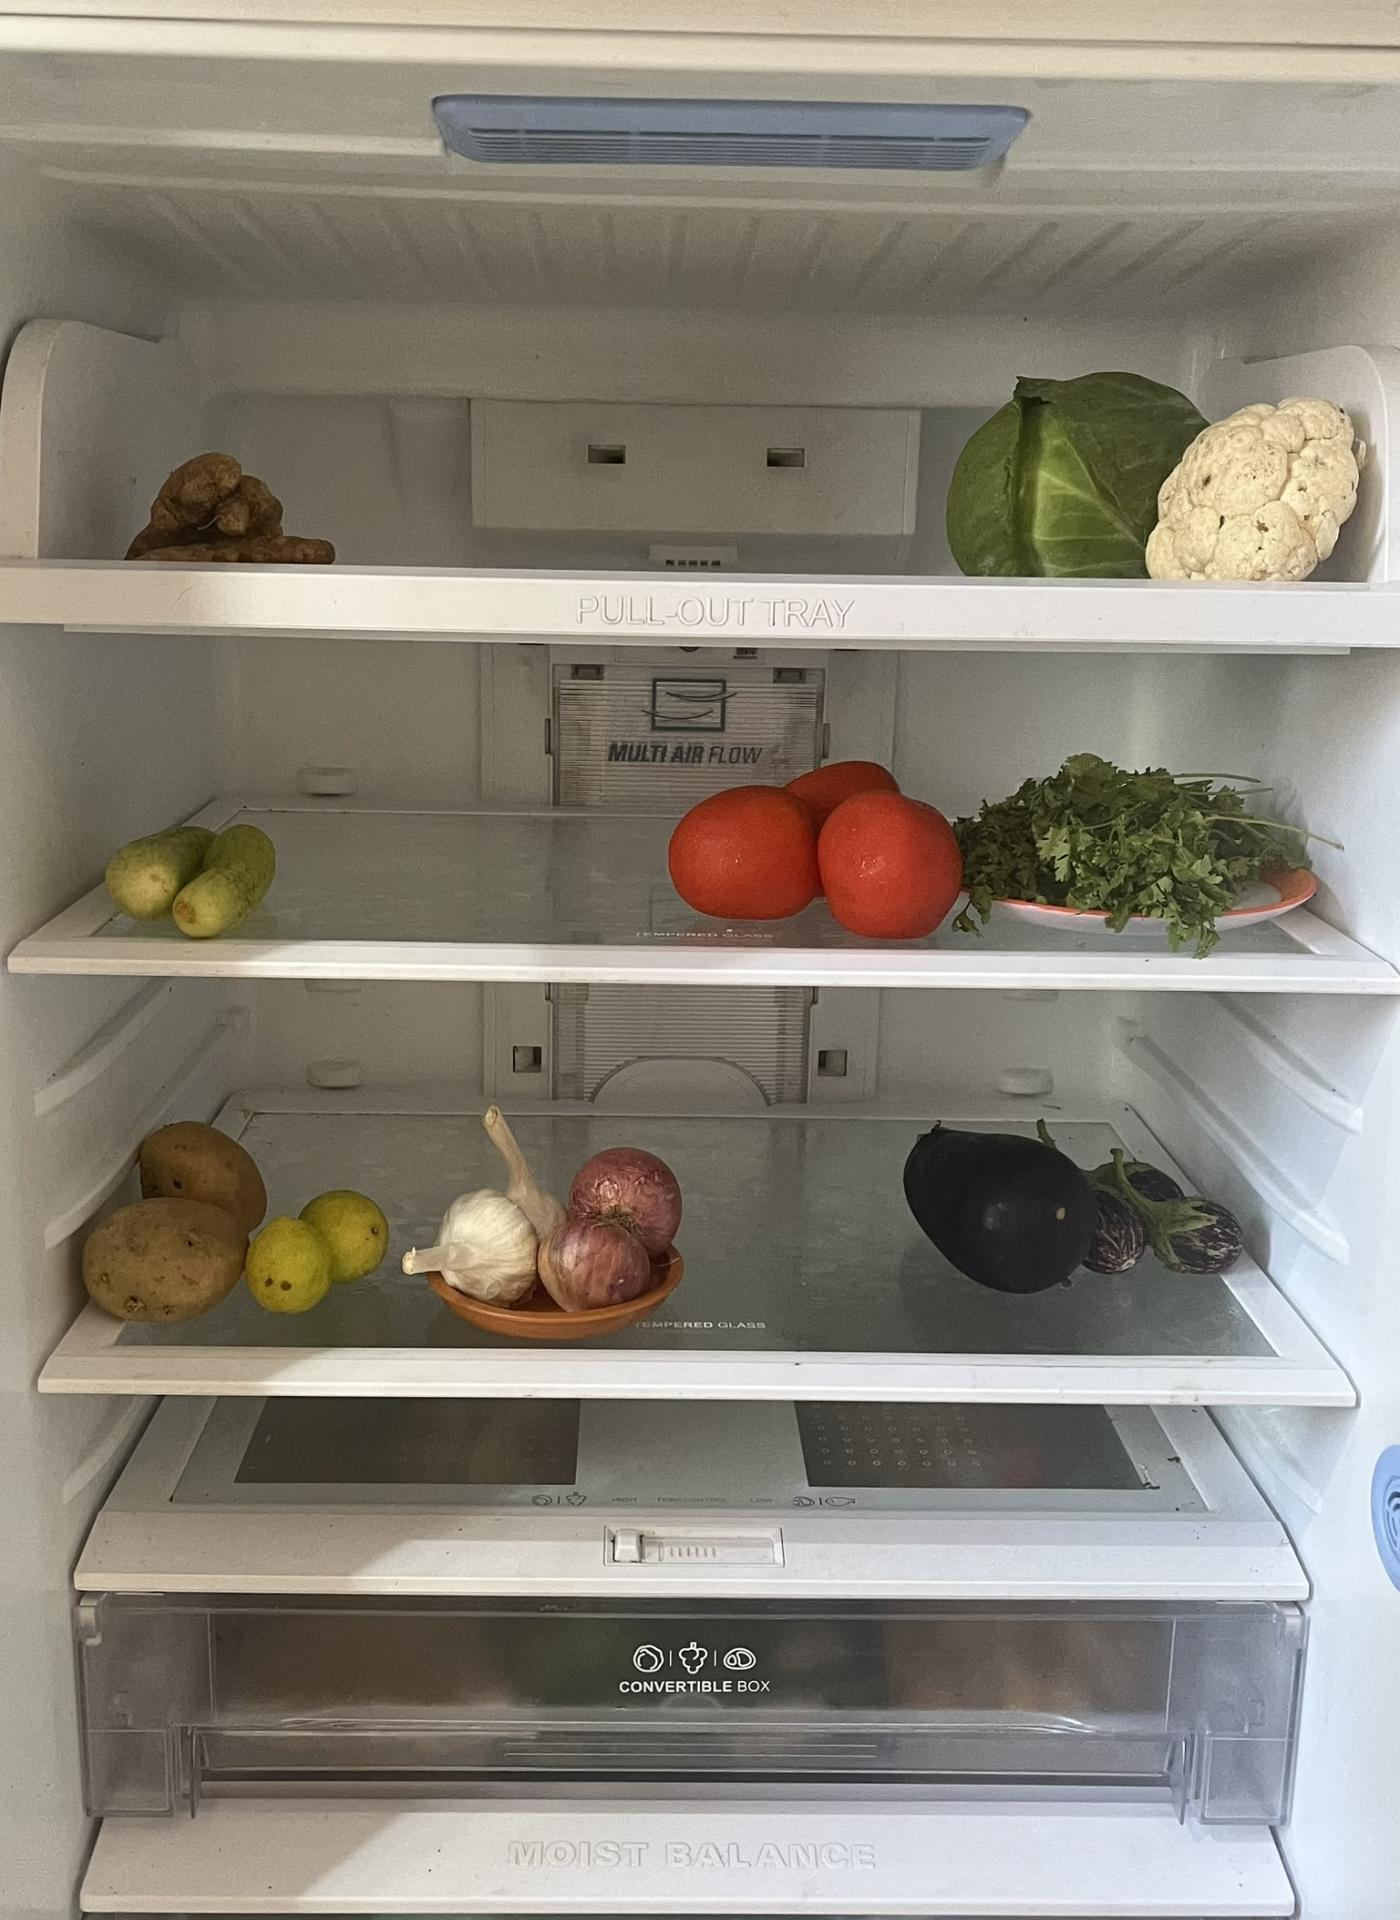cabbage: (954, 370, 1206, 572)
cauliflower: (1145, 385, 1367, 578)
coriander: (963, 756, 1300, 932)
cucumber: (94, 806, 283, 935)
garlic: (407, 1100, 544, 1291)
ginger: (121, 441, 343, 562)
lemon: (255, 1185, 395, 1312)
onion: (553, 1137, 687, 1312)
potato: (73, 1122, 261, 1319)
tomato: (672, 753, 966, 938)
